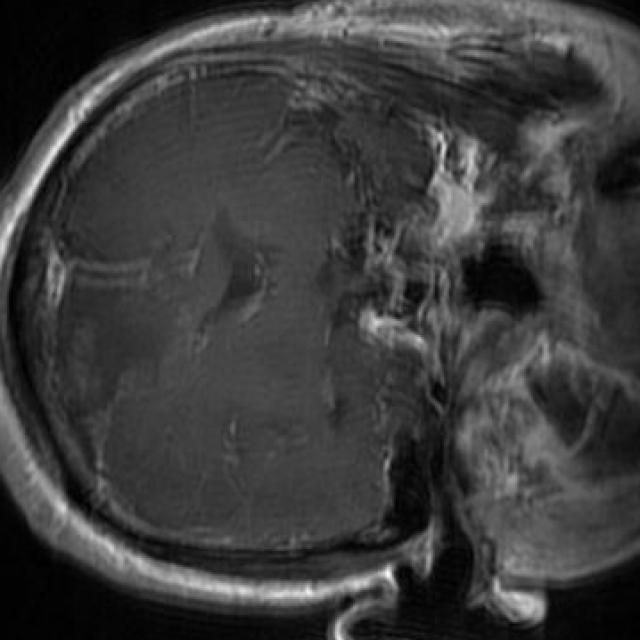glioma: (59, 287, 176, 421)
